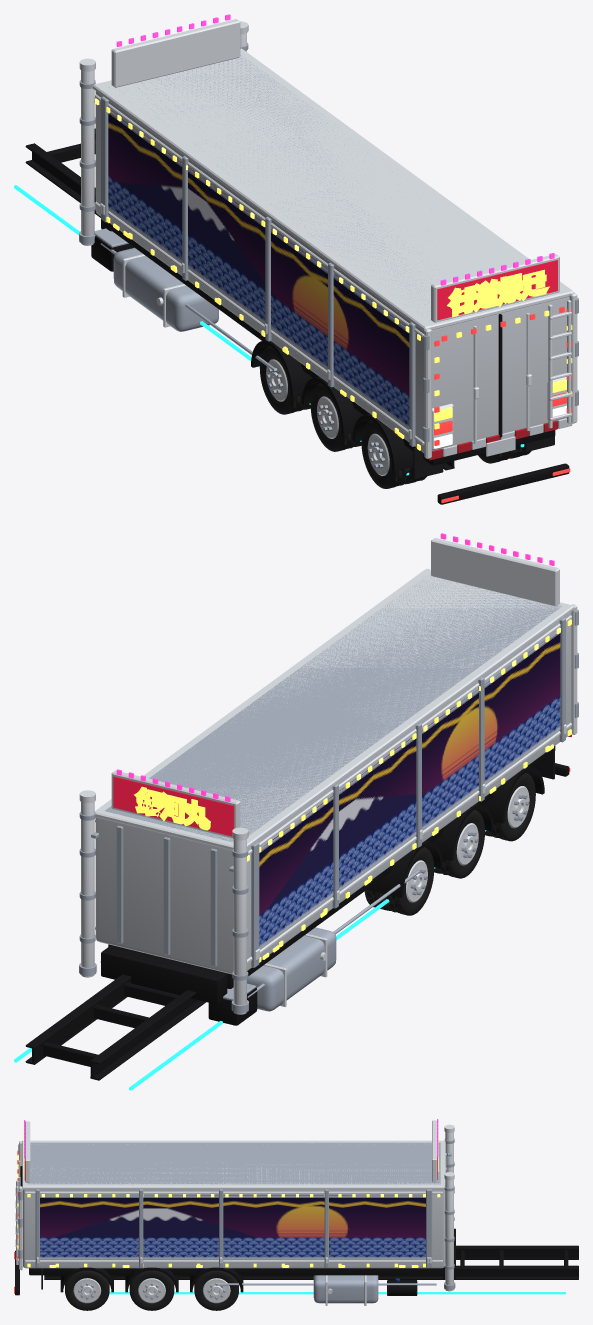
Rendered from body_longo.glb.
3 views of the same model, one above another, from view 1: azimuth 30°, elevation 25°; view 2: azimuth 150°, elevation 25°; view 3: azimuth 270°, elevation 25° (orthographic). The views are drawn at different scales.
Visible parts, largest first — view 1: truck_chrome, truck_mural, truck_paint_white_panel, truck_steel, truck_plastic_black, truck_lamp_amber, wheel_r_L_1.5_1.06, wheel_r_L_3.0_1.06, wheel_r_L_4.5_1.06, truck_andon_panel, truck_paint_white, truck_lamp_red (+3 smaller); view 2: truck_steel, truck_chrome, truck_mural, truck_paint_white_panel, truck_plastic_black, truck_lamp_amber, truck_andon_panel, wheel_r_L_1.5_1.06, wheel_r_L_3.0_1.06, wheel_r_L_4.5_1.06, truck_lamp_cyan, truck_lamp_pink; view 3: truck_mural, truck_steel, truck_chrome, truck_plastic_black, truck_paint_white_panel, wheel_r_R_3.0_1.06, wheel_r_R_1.5_1.06, wheel_r_R_4.5_1.06, truck_lamp_cyan, truck_lamp_amber.
Boxes of the visible parts, x1,y1,x2,y2 form: truck_chrome: (79, 19, 577, 458); truck_mural: (108, 111, 409, 429); truck_paint_white_panel: (95, 91, 569, 452); truck_steel: (79, 42, 578, 446); truck_plastic_black: (25, 128, 569, 504); truck_lamp_amber: (106, 107, 572, 450); wheel_r_L_1.5_1.06: (361, 420, 411, 488); wheel_r_L_3.0_1.06: (310, 383, 357, 451); wheel_r_L_4.5_1.06: (259, 346, 306, 414); truck_andon_panel: (437, 260, 557, 320); truck_paint_white: (443, 418, 572, 456); truck_lamp_red: (434, 306, 572, 503); truck_steel: (79, 575, 578, 1013); truck_chrome: (79, 538, 577, 1014); truck_mural: (259, 632, 560, 948); truck_paint_white_panel: (95, 612, 571, 974); truck_plastic_black: (25, 746, 569, 1080); truck_lamp_amber: (134, 619, 571, 962); truck_andon_panel: (113, 776, 233, 836); wheel_r_L_1.5_1.06: (488, 773, 535, 841); wheel_r_L_3.0_1.06: (438, 810, 484, 878); wheel_r_L_4.5_1.06: (385, 847, 434, 915); truck_lamp_cyan: (14, 830, 486, 1090); truck_lamp_pink: (116, 533, 554, 801); truck_mural: (40, 1195, 425, 1258); truck_steel: (18, 1138, 455, 1303); truck_chrome: (15, 1120, 454, 1305); truck_plastic_black: (15, 1166, 578, 1295); truck_paint_white_panel: (23, 1189, 445, 1268); wheel_r_R_3.0_1.06: (129, 1270, 174, 1310); wheel_r_R_1.5_1.06: (65, 1270, 109, 1310); wheel_r_R_4.5_1.06: (194, 1270, 238, 1310); truck_lamp_cyan: (109, 1292, 565, 1294); truck_lamp_amber: (17, 1130, 438, 1267).
Size of the model in its own units: 2.85 by 3.91 by 13.1.
Materials: 17 (3 with a texture image).
